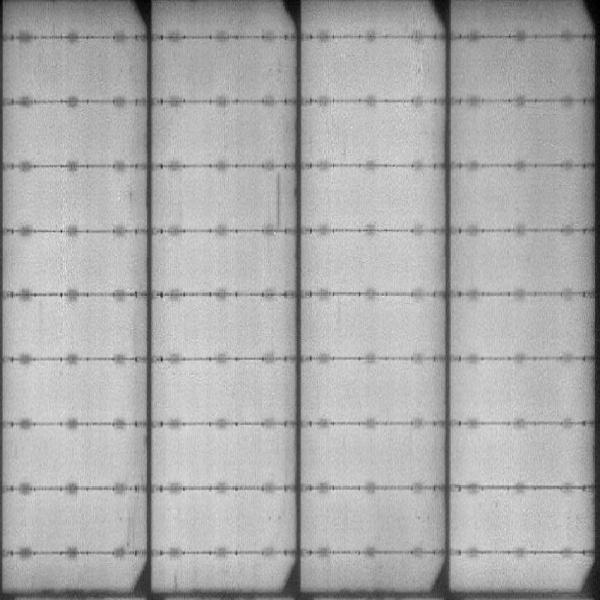scratch: (272, 172, 284, 222)
